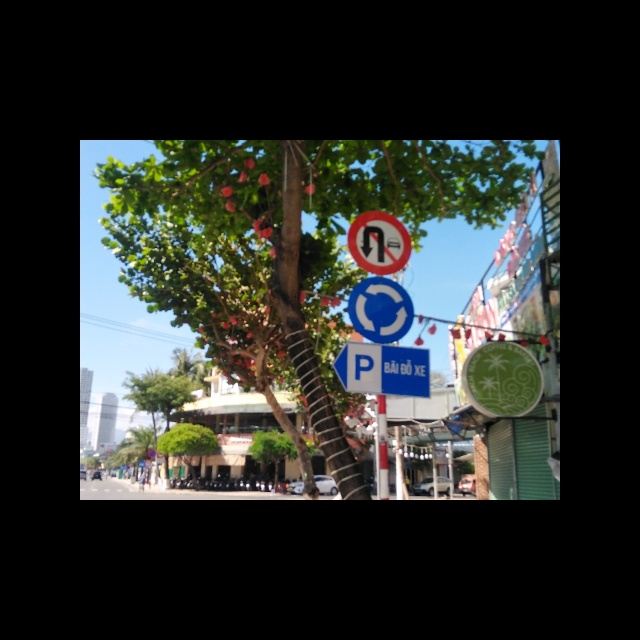Cấm xe ô tô quay đầu: (348, 209, 410, 277)
Nơi giao nhau chạy theo vòng xuyến: (349, 277, 416, 343)
Nơi đỗ xe: (331, 343, 432, 401)
